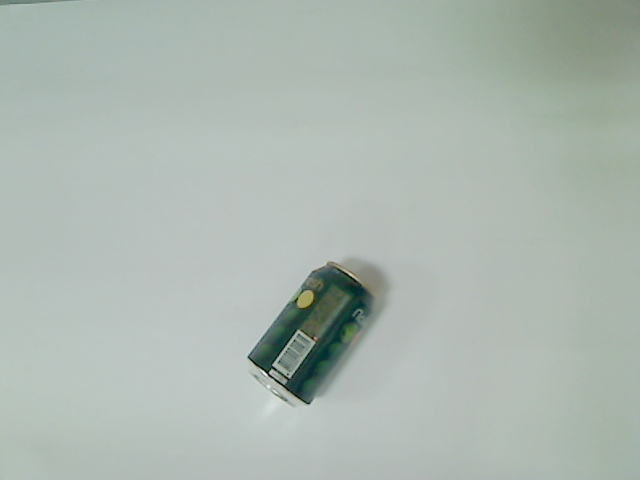can: (246, 261, 377, 409)
